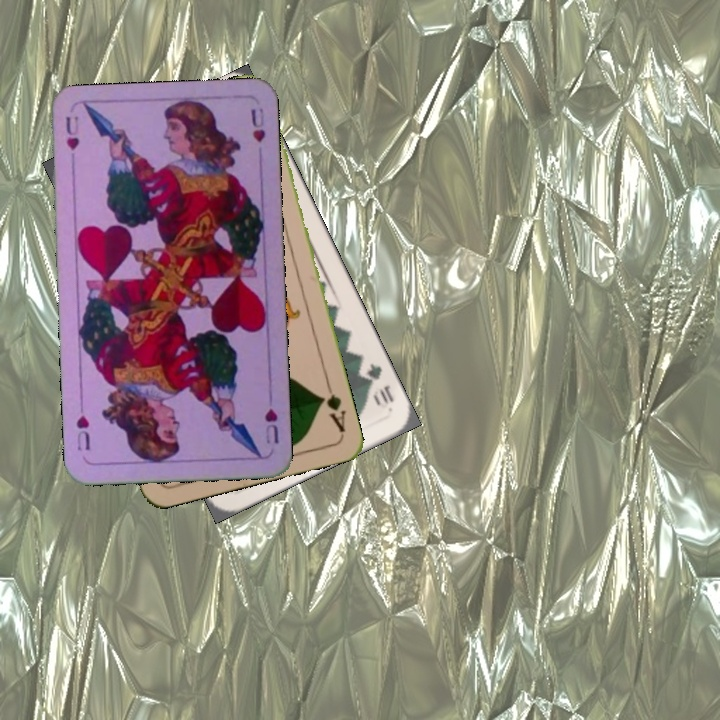G10: (359, 359, 397, 407)
GA: (316, 378, 348, 435)
HU: (62, 112, 82, 169), (261, 405, 281, 446)
